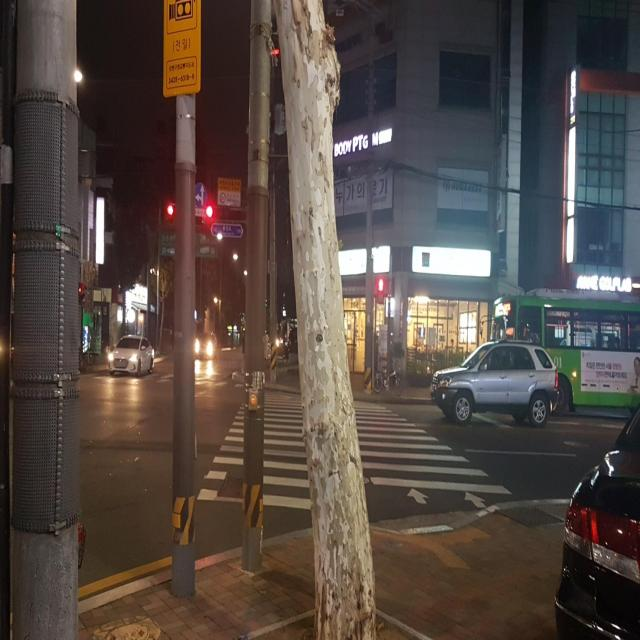빨간불: (375, 274, 386, 306)
횡단보도: (196, 392, 513, 511)
